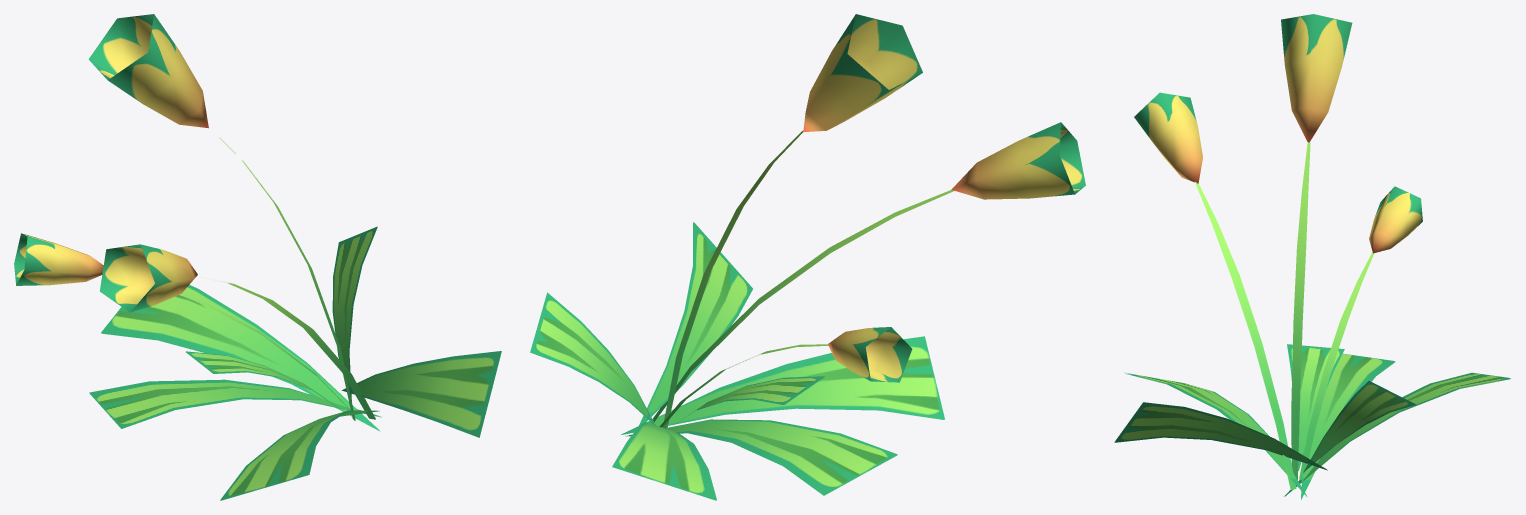
Rendered from Fbx_Tulip_02.fbx.
The picture shows the model from 3 angles, left to right: view 1: azimuth 30°, elevation 25°; view 2: azimuth 150°, elevation 25°; view 3: azimuth 270°, elevation 25°; orthographic projection. The views are drawn at different scales.
Visible parts, largest first — view 1: Fbx_Tulip_02; view 2: Fbx_Tulip_02; view 3: Fbx_Tulip_02.
Boxes of the visible parts, <box> form: Fbx_Tulip_02: <box>14,14,501,500</box>; Fbx_Tulip_02: <box>530,14,1085,500</box>; Fbx_Tulip_02: <box>1114,14,1510,499</box>.
Bounding box in the file's own units: 118 × 133 × 121.
1 material, 1 textured.
